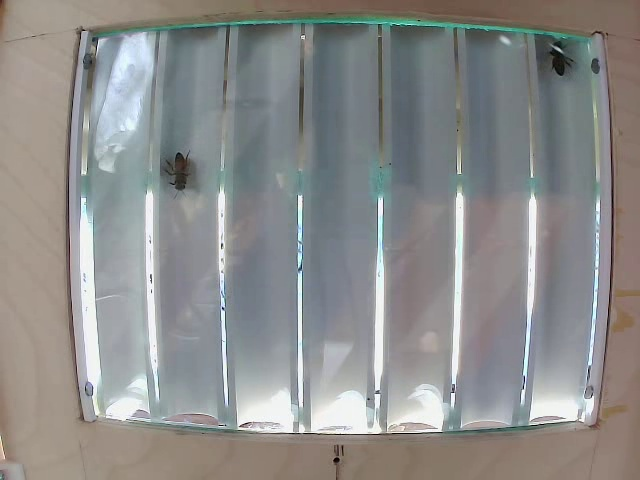bee: (160, 148, 212, 203), (551, 48, 571, 83)
